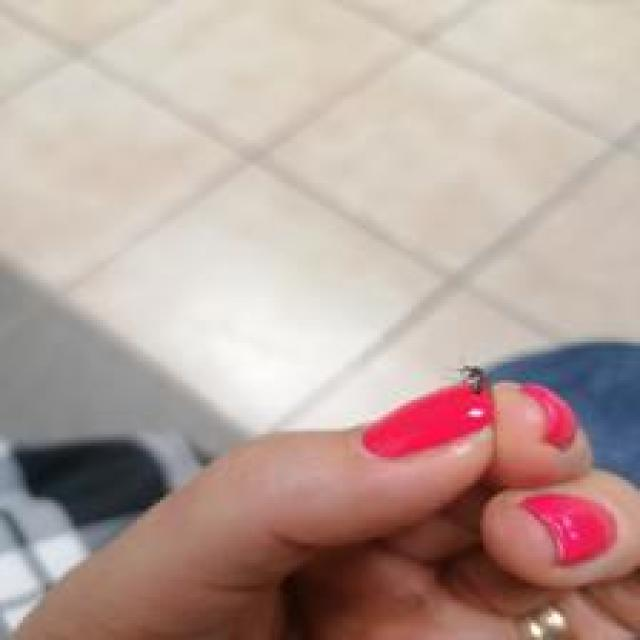Aedes albopictus: (360, 362, 577, 462)
